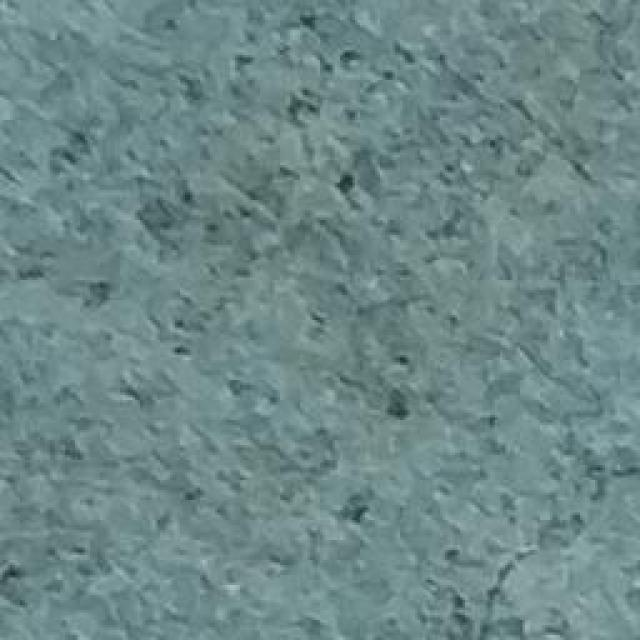Rippled: (6, 4, 536, 523)
